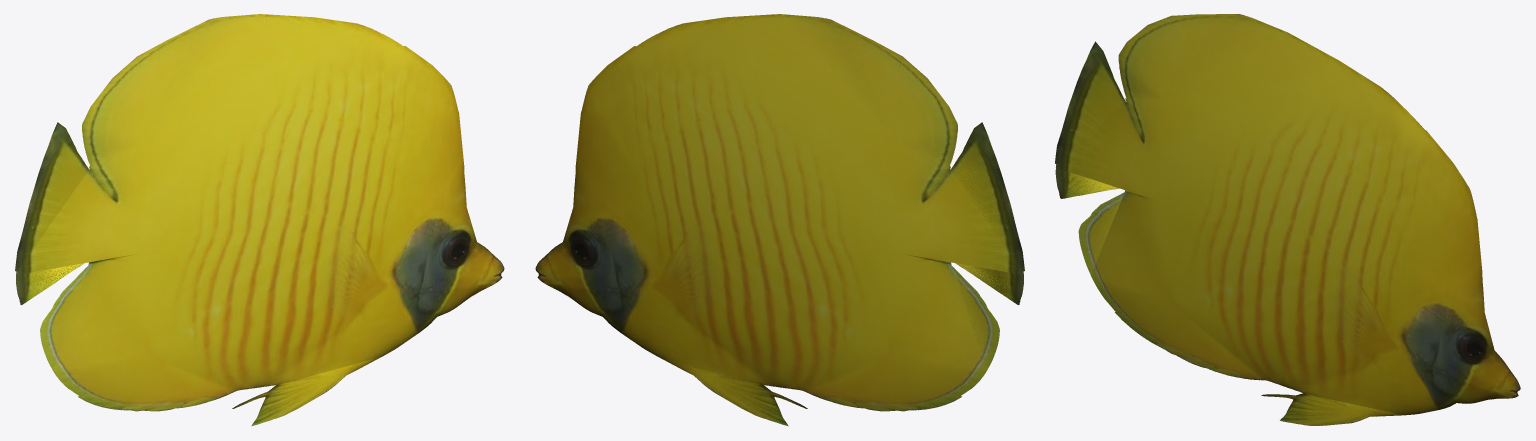
The model's file is SM_YellowFish.fbx.
3 renders of one model, left to right at view 1: azimuth 30°, elevation 25°; view 2: azimuth 150°, elevation 25°; view 3: azimuth 330°, elevation 25°, orthographic. The views are drawn at different scales.
Visible parts, largest first — view 1: SM_YellowFish; view 2: SM_YellowFish; view 3: SM_YellowFish.
Part boxes in pixels (bbox=[...]): SM_YellowFish: bbox=[15, 14, 504, 426]; SM_YellowFish: bbox=[535, 14, 1024, 426]; SM_YellowFish: bbox=[1055, 14, 1520, 425].
Bounding box in the file's own units: 24.54 × 19.99 × 2.44.
1 material, 1 textured.
